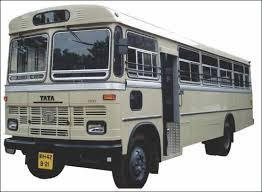Bus: (4, 3, 255, 189)
